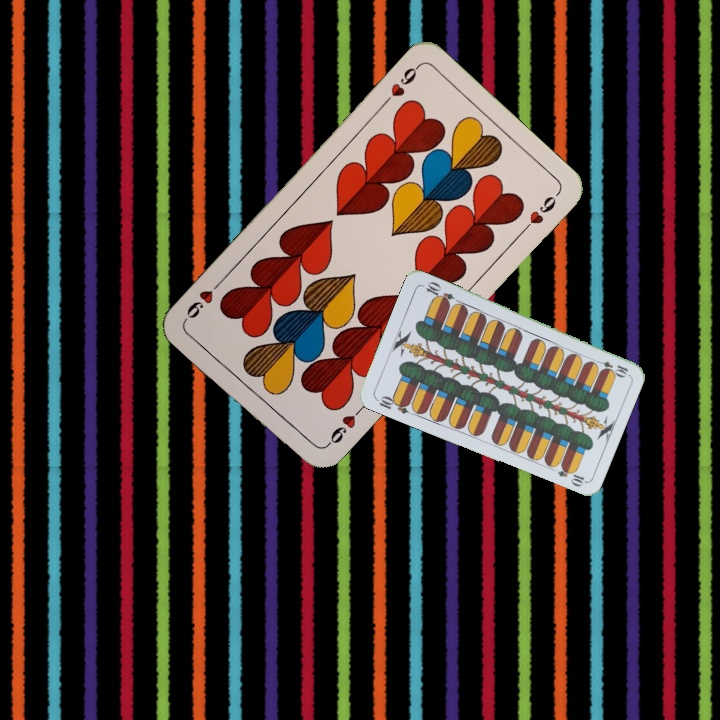E10: (372, 392, 412, 416), (591, 356, 631, 378)
H9: (321, 403, 366, 451), (378, 61, 422, 108)
